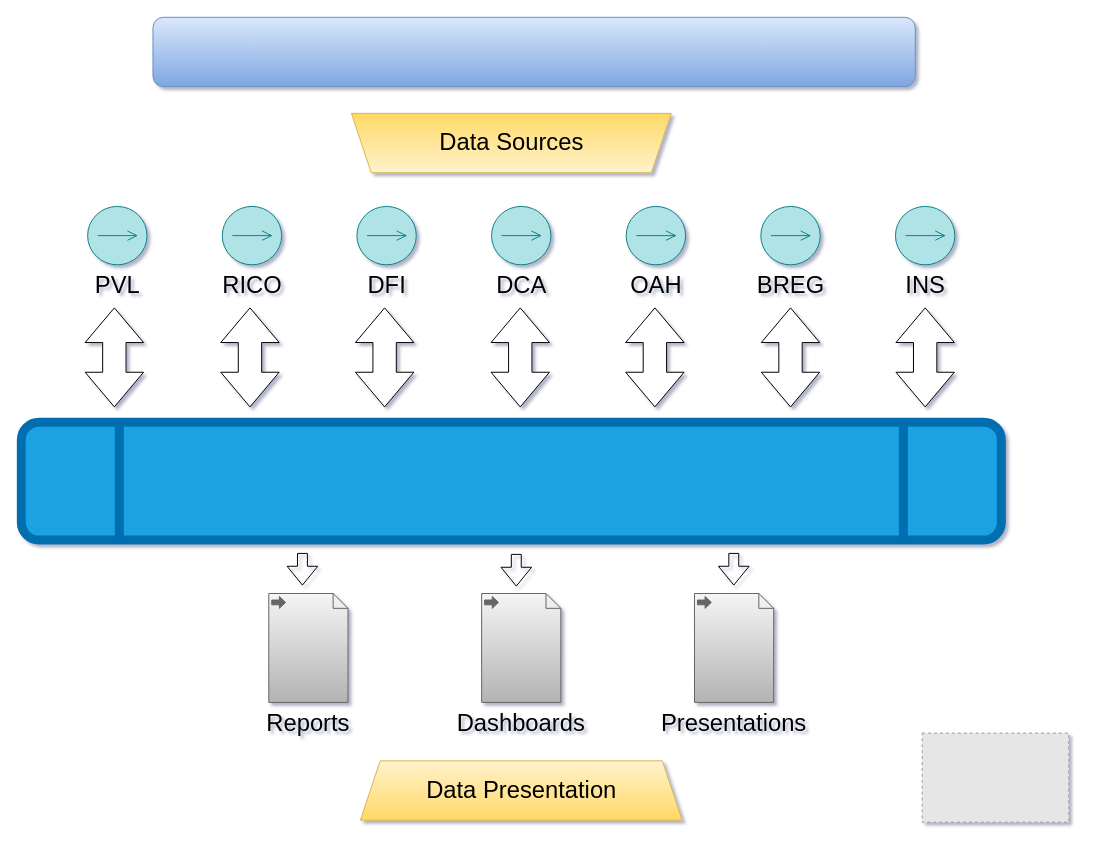
The diagram is 1093 pixels wide and 845 high, and some of its shapes have lost their labels. Grey dashed boxes stand in for pictures. The centre of each missing label's shape, as x and y in pixels:
"DCCA Data Integration Diagram" goes at point (533, 51).
"IPAAS HUB Boomi" goes at point (510, 480).
